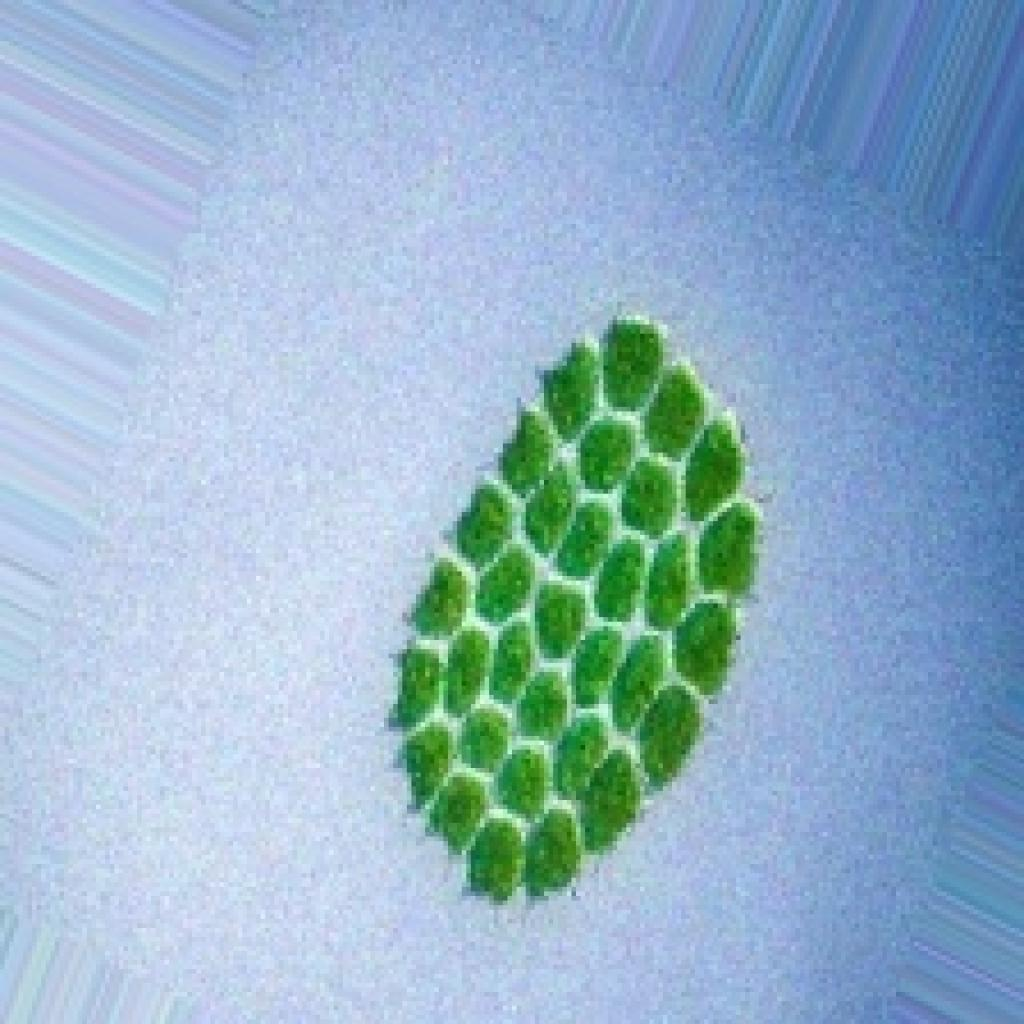Sphericalbacteria: (380, 306, 764, 905)
